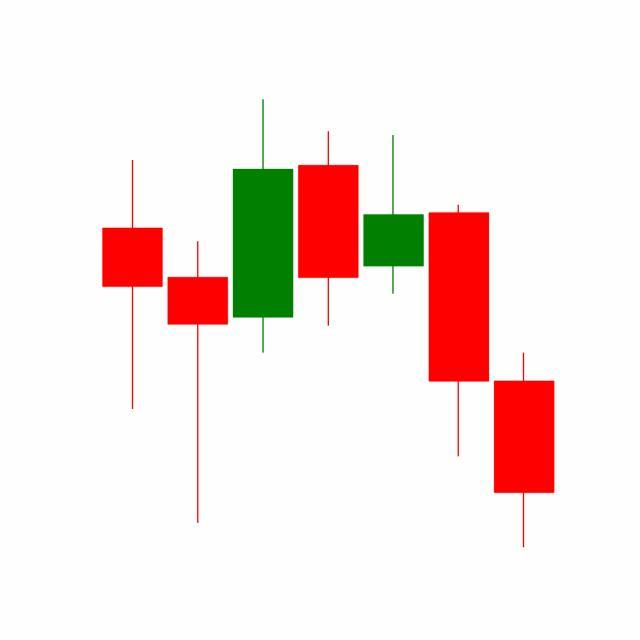Three Outside Up-Down: (360, 130, 556, 548)
